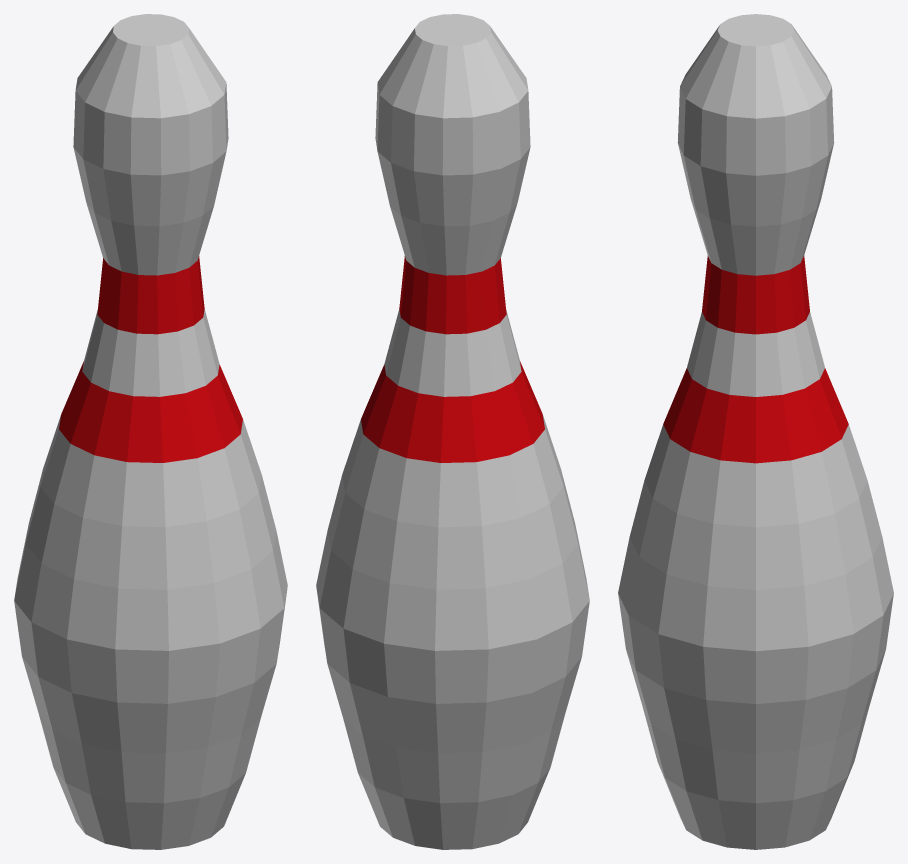
The model's file is Bowling Pin.fbx.
3 views of the same model, side by side, from view 1: azimuth 30°, elevation 25°; view 2: azimuth 150°, elevation 25°; view 3: azimuth 270°, elevation 25° (orthographic).
Parts seen in each view (by area): view 1: Pin_Render; view 2: Pin_Render; view 3: Pin_Render.
Boxes of the visible parts, x1=… form: Pin_Render: x1=14, y1=14, x2=287, y2=849; Pin_Render: x1=316, y1=14, x2=589, y2=849; Pin_Render: x1=618, y1=14, x2=893, y2=849.
Size of what is drawn, in the model's own units: 1200 by 3780 by 1200.
